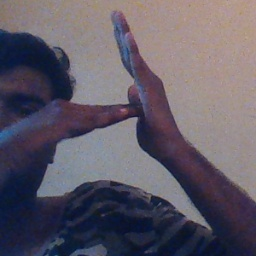Z: (76, 10, 186, 159)
